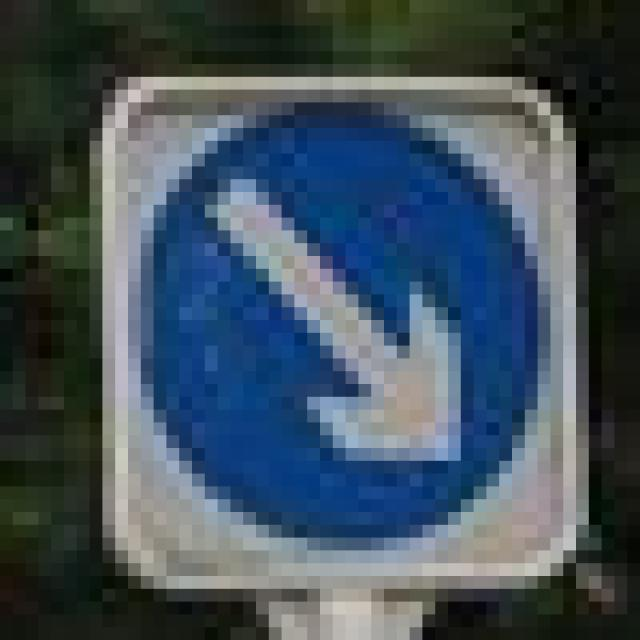compulsory_keep_left: (77, 26, 576, 588)
